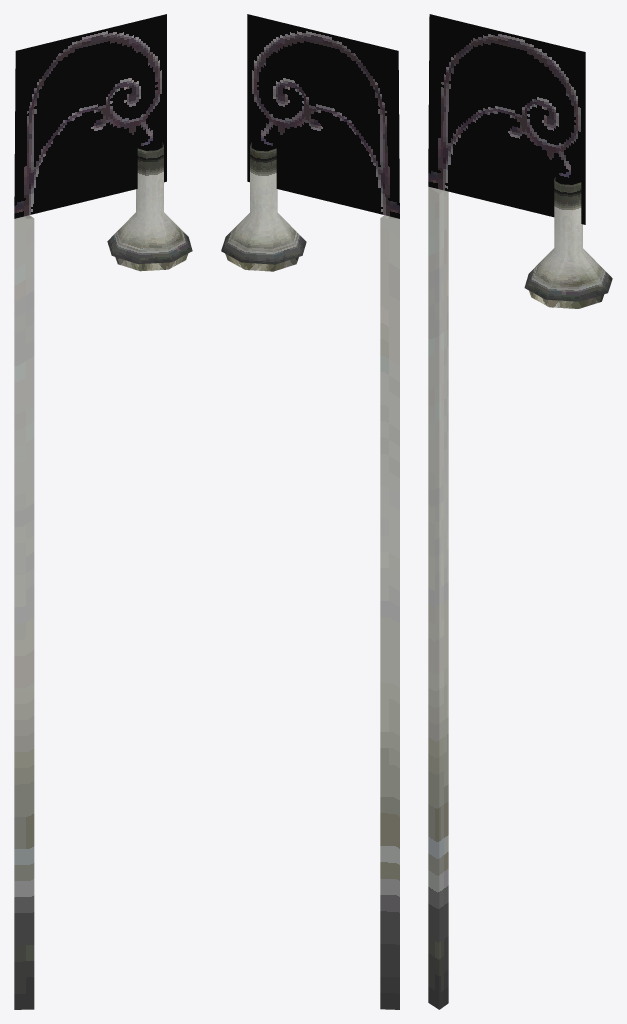
The model's file is stage-impe-p6-53.glb.
3 renders of one model, left to right at view 1: azimuth 30°, elevation 25°; view 2: azimuth 150°, elevation 25°; view 3: azimuth 330°, elevation 25°, orthographic. The views are drawn at different scales.
Size of the model in its own units: 1.68 by 8.84 by 0.7339.
Materials: 3 (3 with a texture image).
